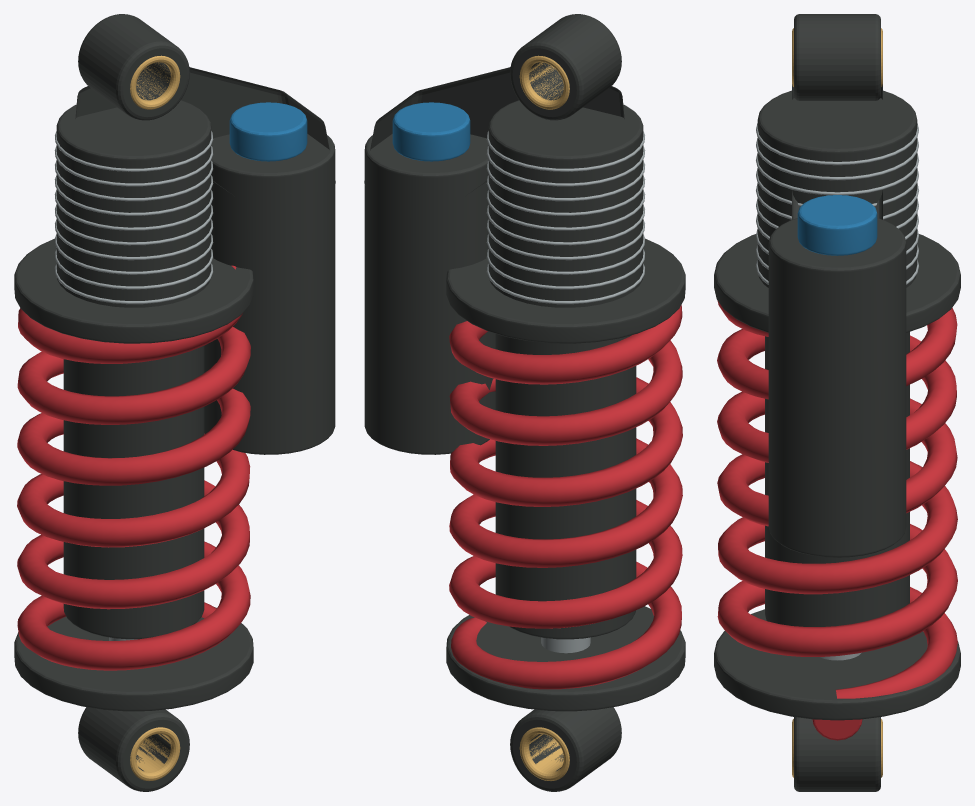
The model's file is rockshox-vivid-coil-ultimate-d1--c404e204.glb.
The picture shows the model from 3 angles, left to right: view 1: azimuth 30°, elevation 25°; view 2: azimuth 150°, elevation 25°; view 3: azimuth 270°, elevation 25°; orthographic projection. The views are drawn at different scales.
Parts seen in each view (by area): view 1: rockshox-vivid-coil-ultimate-d1--c404e204__link, rockshox-vivid-coil-ultimate-d1--c404e204__rebound, rockshox-vivid-coil-ultimate-d1--c404e204__bolts, rockshox-vivid-coil-ultimate-d1--c404e204__adjuster, rockshox-vivid-coil-ultimate-d1--c404e204__stanchions; view 2: rockshox-vivid-coil-ultimate-d1--c404e204__link, rockshox-vivid-coil-ultimate-d1--c404e204__rebound, rockshox-vivid-coil-ultimate-d1--c404e204__bolts, rockshox-vivid-coil-ultimate-d1--c404e204__adjuster, rockshox-vivid-coil-ultimate-d1--c404e204__stanchions; view 3: rockshox-vivid-coil-ultimate-d1--c404e204__link, rockshox-vivid-coil-ultimate-d1--c404e204__rebound, rockshox-vivid-coil-ultimate-d1--c404e204__adjuster, rockshox-vivid-coil-ultimate-d1--c404e204__bolts, rockshox-vivid-coil-ultimate-d1--c404e204__stanchions.
Boxes of the visible parts, x1,y1,x2,y2 form: rockshox-vivid-coil-ultimate-d1--c404e204__link: [14, 14, 335, 791]; rockshox-vivid-coil-ultimate-d1--c404e204__rebound: [17, 265, 250, 670]; rockshox-vivid-coil-ultimate-d1--c404e204__bolts: [54, 131, 213, 640]; rockshox-vivid-coil-ultimate-d1--c404e204__adjuster: [229, 102, 307, 161]; rockshox-vivid-coil-ultimate-d1--c404e204__stanchions: [130, 55, 180, 780]; rockshox-vivid-coil-ultimate-d1--c404e204__link: [364, 14, 685, 791]; rockshox-vivid-coil-ultimate-d1--c404e204__rebound: [449, 305, 682, 689]; rockshox-vivid-coil-ultimate-d1--c404e204__bolts: [486, 131, 645, 653]; rockshox-vivid-coil-ultimate-d1--c404e204__adjuster: [392, 102, 470, 161]; rockshox-vivid-coil-ultimate-d1--c404e204__stanchions: [519, 55, 569, 780]; rockshox-vivid-coil-ultimate-d1--c404e204__link: [714, 14, 960, 791]; rockshox-vivid-coil-ultimate-d1--c404e204__rebound: [717, 301, 957, 740]; rockshox-vivid-coil-ultimate-d1--c404e204__adjuster: [797, 195, 877, 255]; rockshox-vivid-coil-ultimate-d1--c404e204__bolts: [756, 123, 918, 660]; rockshox-vivid-coil-ultimate-d1--c404e204__stanchions: [792, 28, 882, 777].
Bounding box in the file's own units: 0.097 × 0.234 × 0.068.
